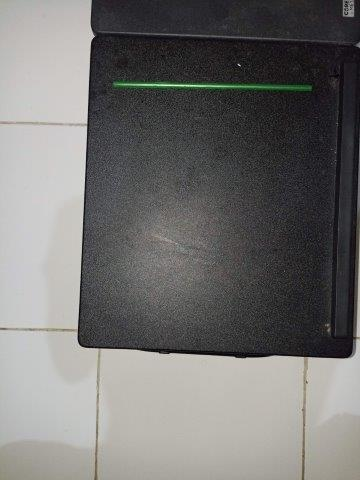sedotan: (113, 80, 312, 91)
